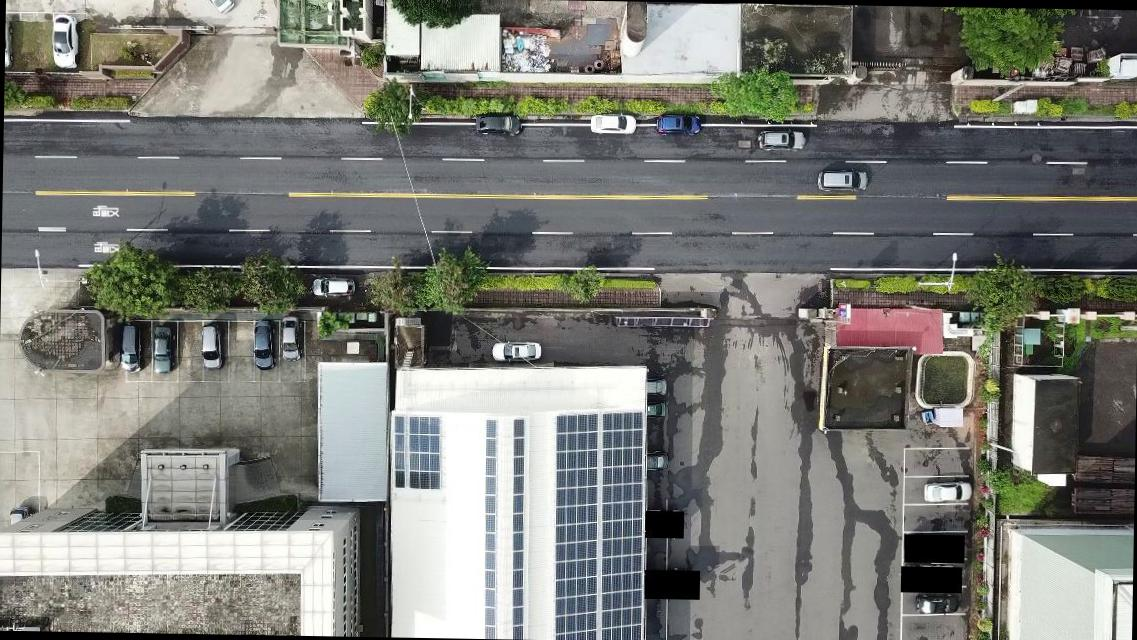vehicle: (52, 11, 80, 68), (491, 339, 542, 364), (253, 320, 277, 370), (923, 478, 972, 502), (758, 127, 805, 152), (120, 324, 144, 372), (199, 323, 223, 369), (279, 315, 303, 361), (590, 112, 635, 136), (818, 170, 867, 192), (152, 326, 174, 373), (476, 113, 520, 135), (656, 114, 700, 136), (310, 278, 356, 298), (7, 506, 32, 528), (200, 0, 233, 16), (646, 450, 668, 470), (645, 378, 668, 397), (648, 398, 668, 418)
